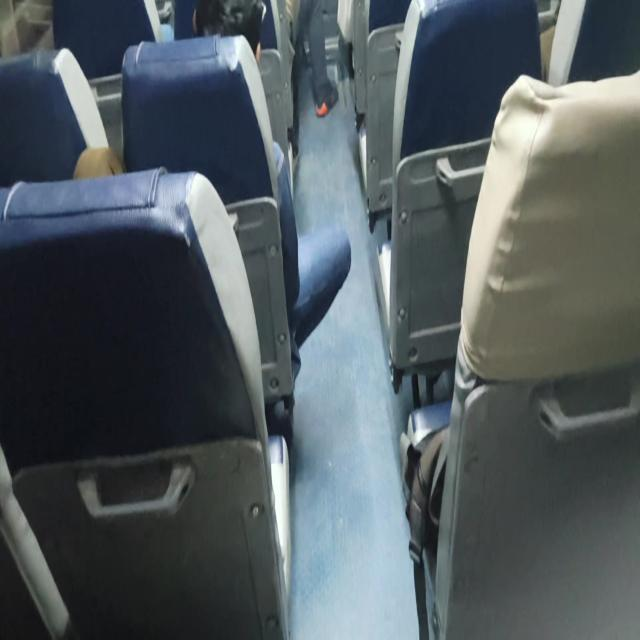person: (190, 0, 272, 65)
